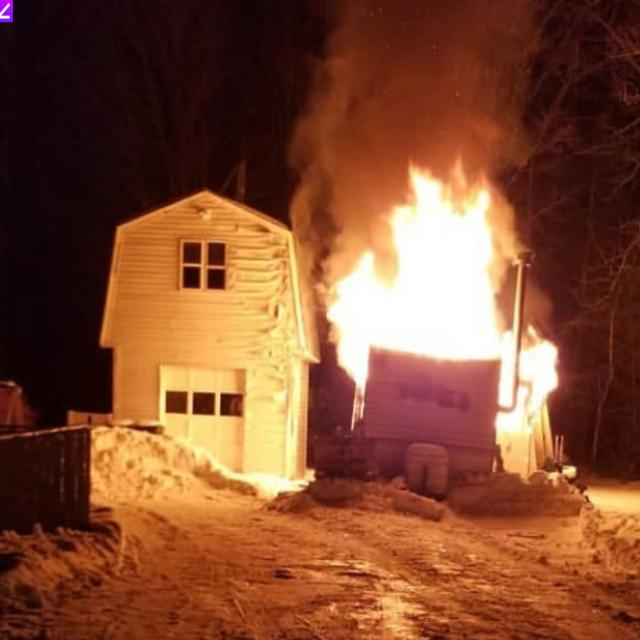fire: (327, 157, 493, 344), (496, 364, 577, 485), (370, 324, 557, 364), (336, 344, 370, 431)
